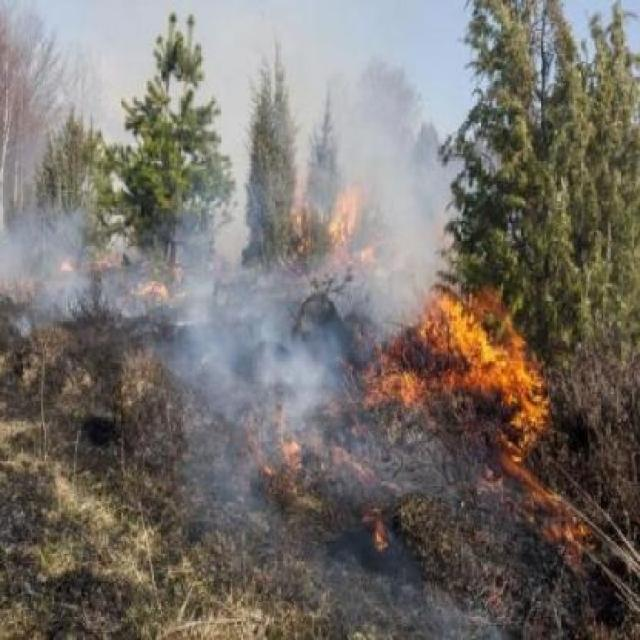Fire: (360, 283, 591, 557), (326, 190, 359, 244)
Smoke: (1, 1, 504, 638)
